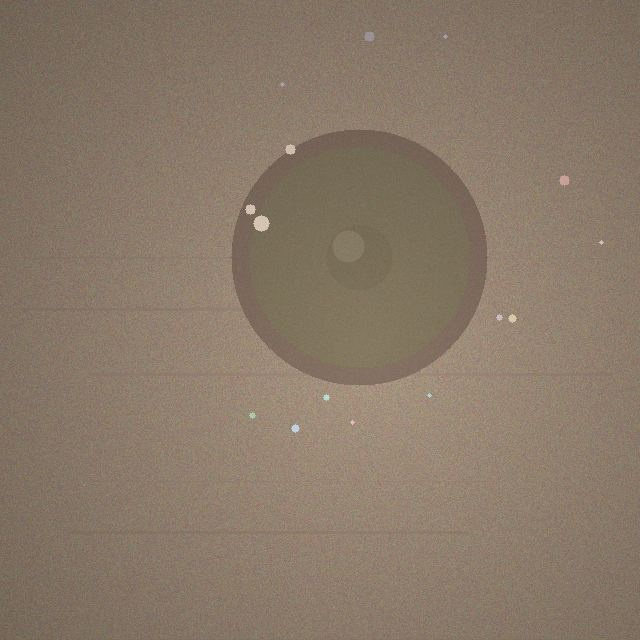overburn: (231, 129, 487, 385)
